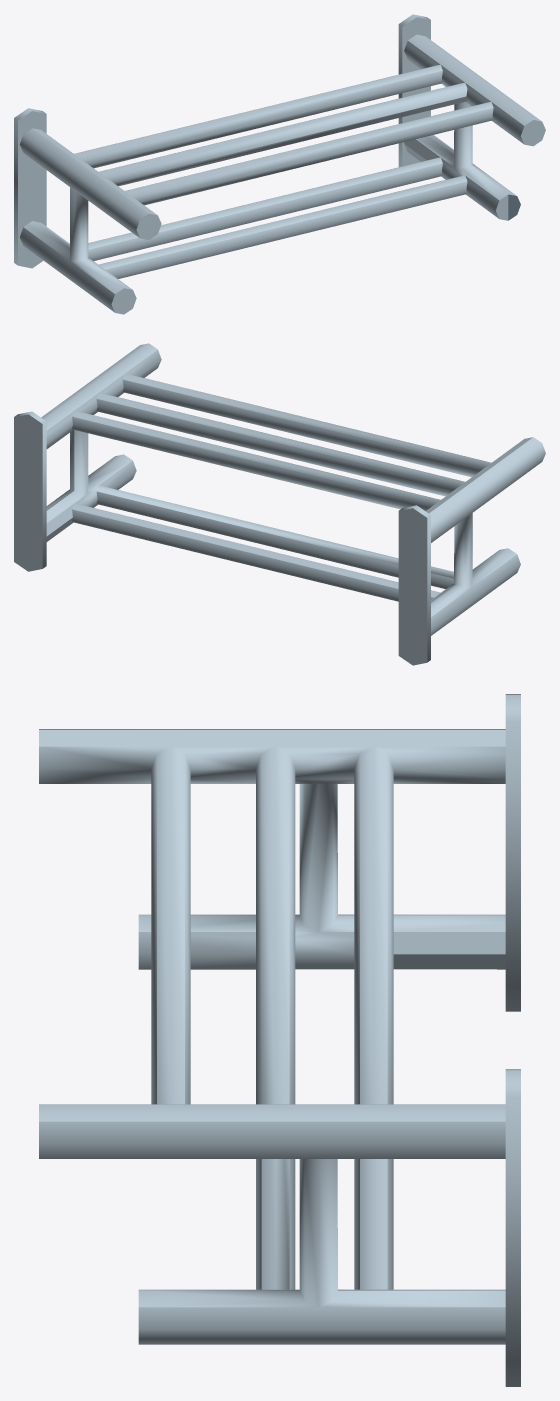
File: Rack-Towel-Hotel-Bathroom_01.fbx
3 renders of one model, top to bottom at view 1: azimuth 30°, elevation 25°; view 2: azimuth 150°, elevation 25°; view 3: azimuth 270°, elevation 25°, orthographic. The views are drawn at different scales.
Visible parts, largest first — view 1: TowelRack; view 2: TowelRack; view 3: TowelRack.
Part boxes in pixels (left/top/right/bottom): TowelRack: left=14, top=14, right=545, bottom=314; TowelRack: left=14, top=343, right=545, bottom=665; TowelRack: left=39, top=694, right=520, bottom=1386.
Size of the model in its own units: 0.9272 by 0.3377 by 0.4685.
